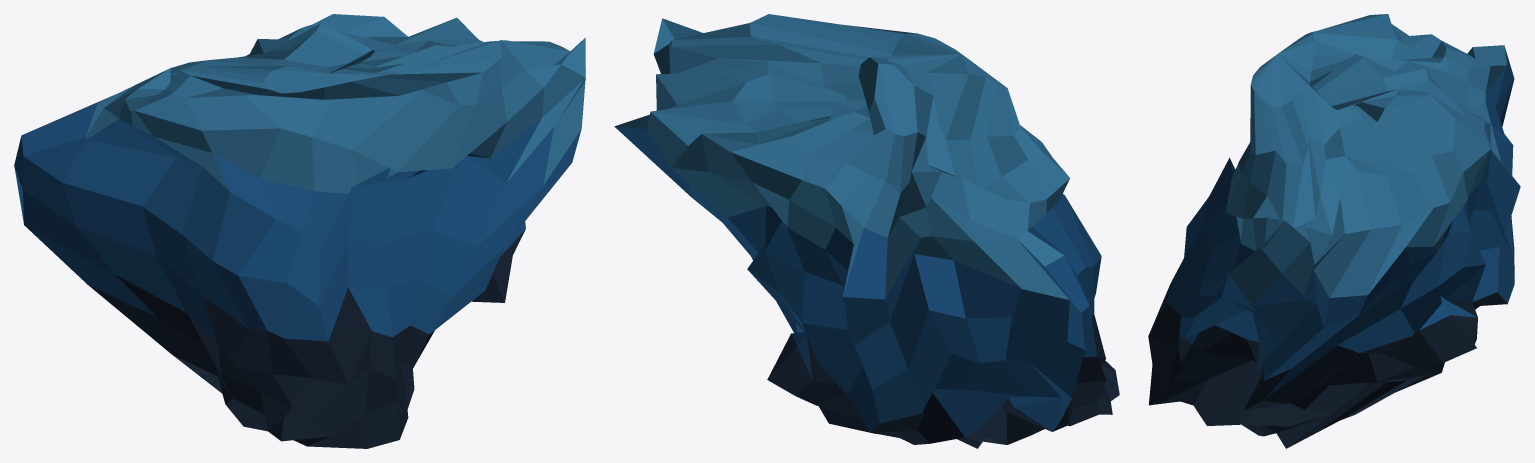
Rendered from rock006.FBX.
3 views of the same model, side by side, from view 1: azimuth 30°, elevation 25°; view 2: azimuth 150°, elevation 25°; view 3: azimuth 270°, elevation 25° (orthographic). The views are drawn at different scales.
Parts seen in each view (by area): view 1: rock_006; view 2: rock_006; view 3: rock_006.
Part boxes in pixels (x1=…): rock_006: x1=14, y1=14, x2=585, y2=448; rock_006: x1=614, y1=14, x2=1119, y2=448; rock_006: x1=1148, y1=14, x2=1520, y2=448.
Size of the model in its own units: 20.28 by 14.42 by 13.
